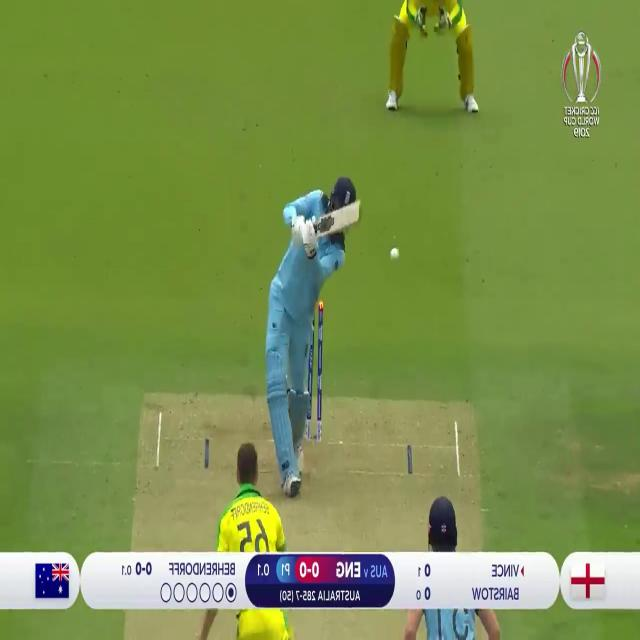ball: (384, 235, 404, 271)
